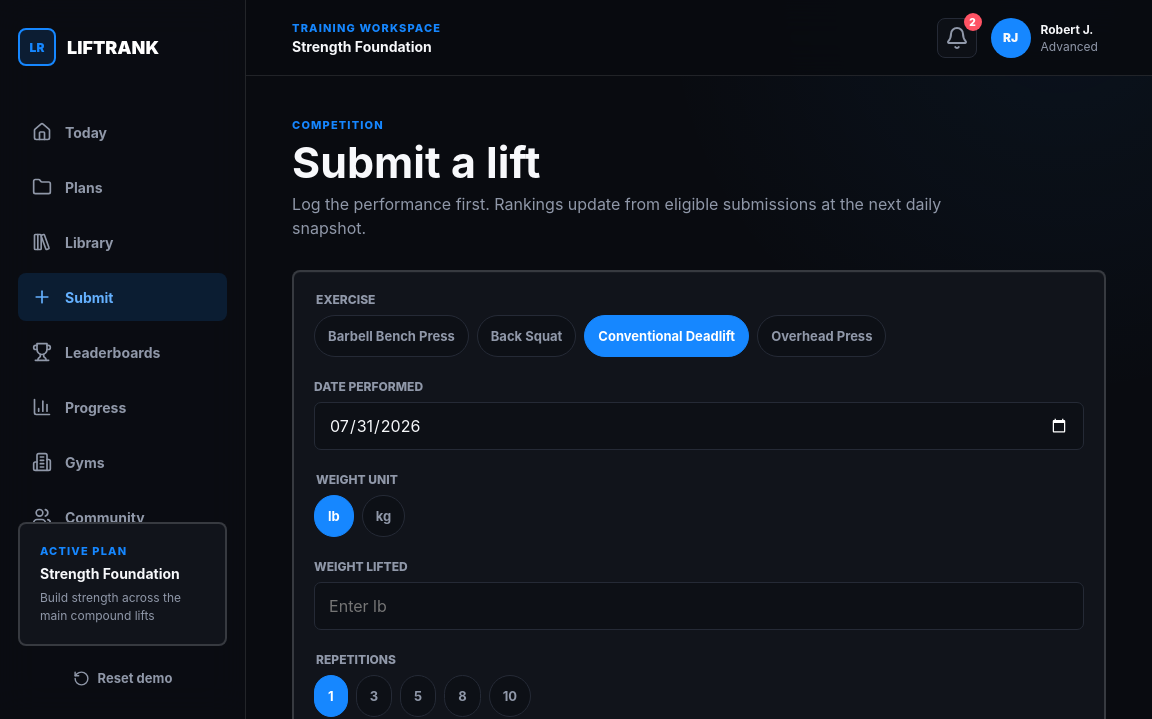
Test: LiftRank tracker UI › submits a lift with bubble controls and editable plate loading
Expected: the heading "Submit a lift" is shown, top-left (292, 136), bottom-right (541, 188)
In the number field labelled "Weight lifted": (699, 606) top-left (314, 582), bottom-right (1084, 630), type "505"
(page scrolled)
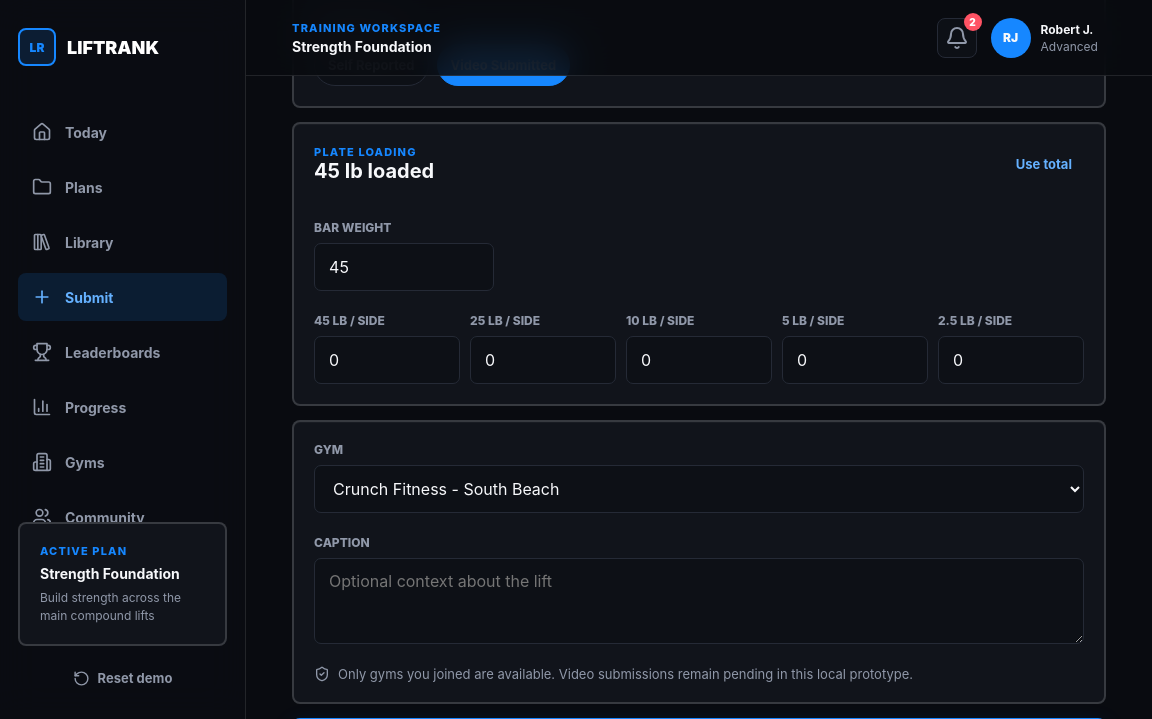
Replace the text in the number field named "45 pound plates per side" with "2": (387, 360) top-left (314, 336), bottom-right (460, 384)
(page scrolled)
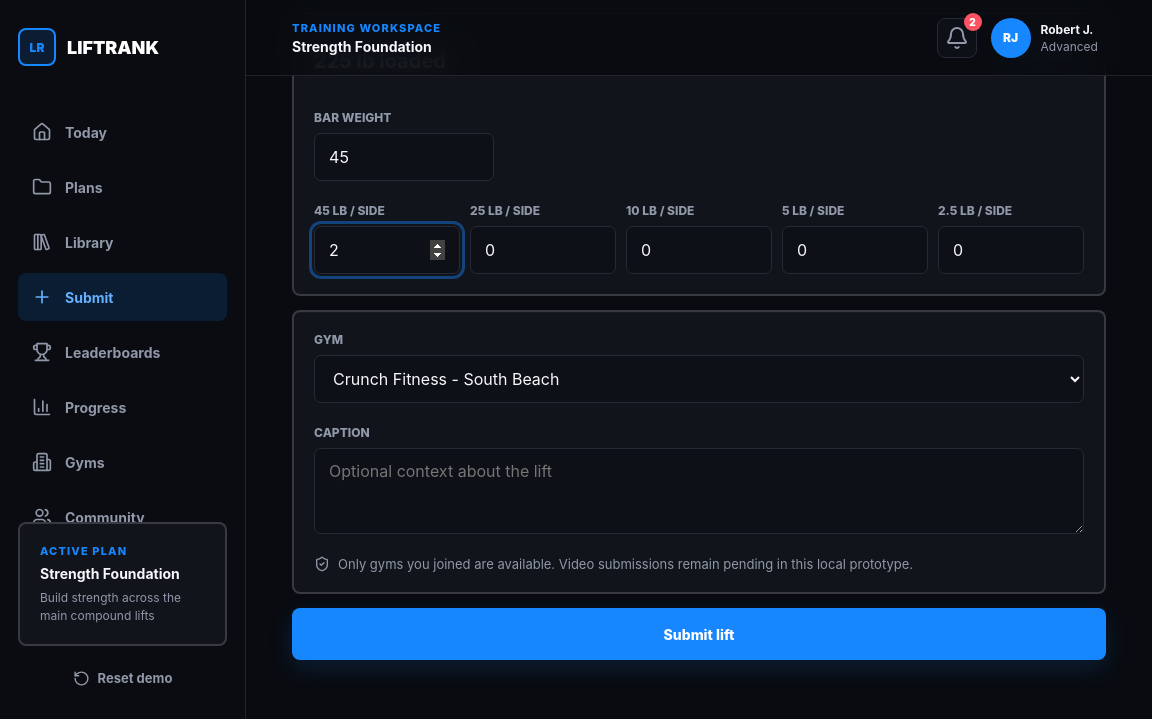
Expected: the heading "225 lb loaded" is shown, top-left (314, 49), bottom-right (446, 73)
Click the button "Submit lift": click(699, 634) top-left (292, 608), bottom-right (1106, 660)
(page scrolled)
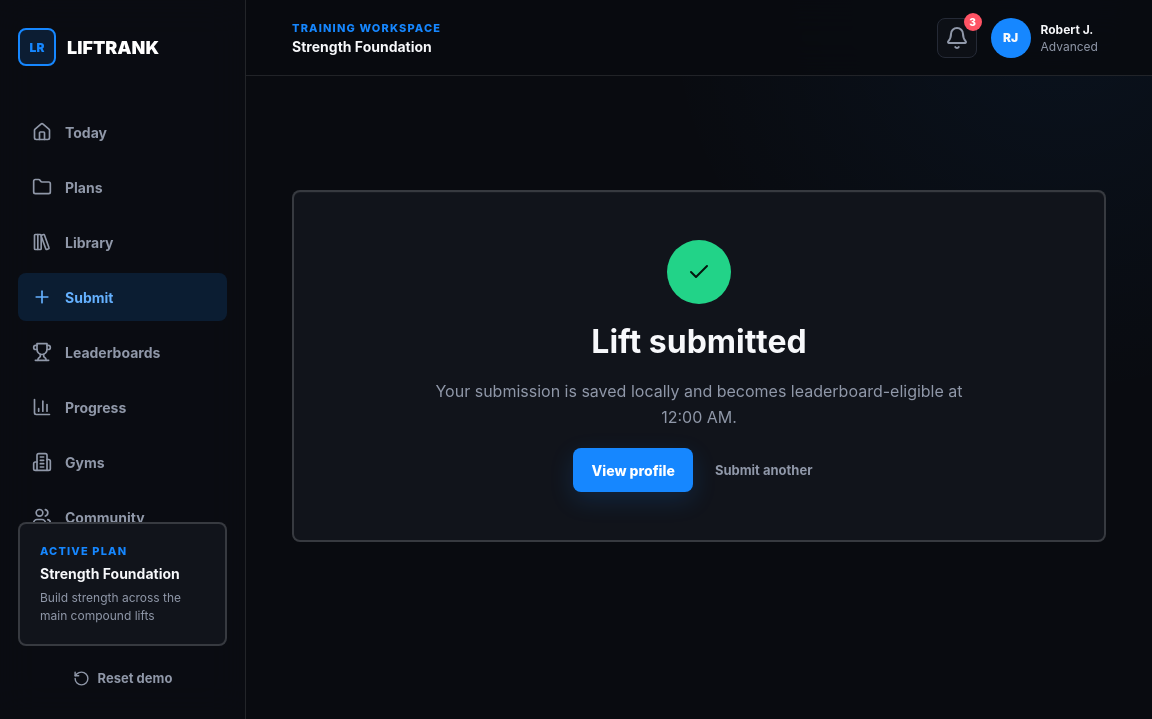
Expected: the heading "Lift submitted" is shown, top-left (591, 322), bottom-right (807, 361)
